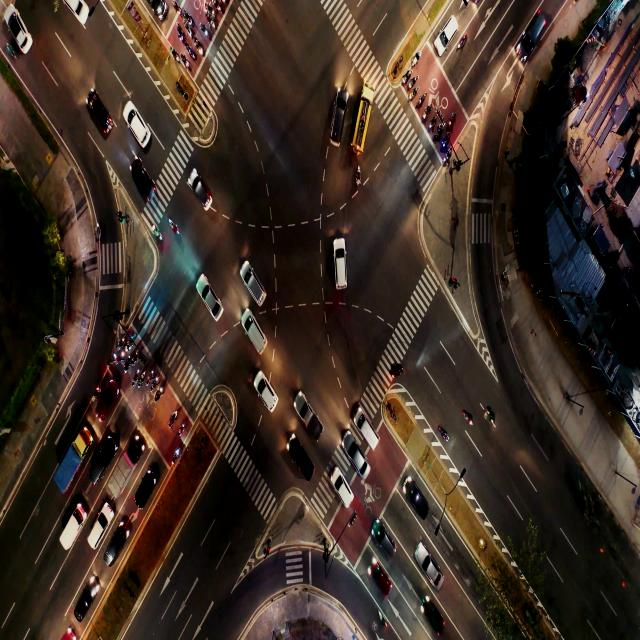bus: (359, 112, 367, 135)
car: (93, 110, 112, 132), (260, 382, 276, 405), (12, 24, 28, 45), (101, 394, 115, 417), (71, 0, 86, 21), (134, 119, 147, 142), (334, 120, 345, 146), (206, 292, 218, 315), (198, 186, 210, 209), (336, 255, 346, 282), (248, 280, 263, 298), (140, 177, 151, 199), (251, 326, 263, 346), (529, 18, 540, 38), (442, 23, 452, 45), (430, 610, 442, 628), (296, 452, 308, 468), (356, 455, 364, 478), (414, 498, 424, 516), (382, 533, 392, 551), (339, 484, 348, 503), (95, 522, 104, 540), (430, 568, 439, 584), (139, 483, 147, 501), (82, 594, 91, 610), (96, 456, 104, 472), (112, 538, 120, 552), (378, 572, 383, 590), (367, 428, 372, 443)
motorcycle: (374, 606, 387, 624), (168, 217, 178, 236), (484, 408, 495, 425), (440, 426, 448, 444), (153, 223, 161, 241), (354, 166, 360, 189), (392, 366, 402, 378), (465, 412, 471, 428), (458, 36, 466, 48), (170, 49, 177, 62), (96, 223, 100, 243), (174, 3, 180, 16), (187, 26, 193, 38), (8, 48, 14, 59), (180, 422, 186, 432), (190, 49, 195, 61), (198, 44, 204, 54), (178, 32, 183, 44), (187, 12, 191, 26), (207, 6, 214, 13), (172, 411, 176, 423), (217, 5, 223, 13), (414, 55, 419, 64), (445, 155, 451, 162), (209, 21, 215, 28), (412, 91, 417, 99), (174, 451, 178, 461), (150, 369, 155, 377), (120, 351, 125, 359), (111, 354, 116, 362), (126, 357, 130, 366), (95, 385, 99, 394), (405, 73, 410, 80), (442, 138, 446, 146), (426, 107, 430, 115), (128, 338, 132, 346), (185, 59, 189, 67), (203, 30, 208, 36), (437, 128, 441, 135), (136, 368, 140, 375), (450, 117, 453, 125), (134, 352, 138, 358), (122, 336, 125, 344), (421, 97, 424, 104), (412, 79, 415, 86), (159, 390, 162, 397), (142, 371, 145, 378), (156, 377, 159, 382), (433, 120, 435, 124)
truck: (298, 399, 318, 426), (65, 448, 79, 476), (64, 520, 78, 540), (120, 457, 128, 476)
